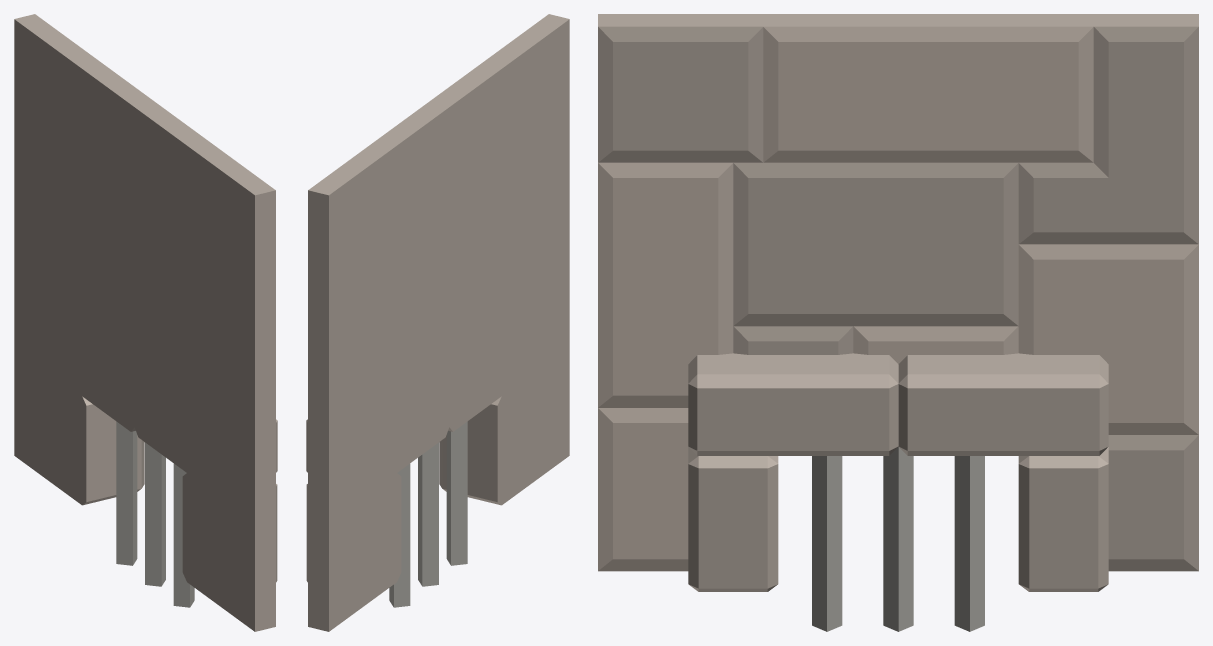
The model's file is Stone_Sewer_Grate_2.glb.
3 renders of one model, left to right at view 1: azimuth 30°, elevation 25°; view 2: azimuth 150°, elevation 25°; view 3: azimuth 270°, elevation 25°, orthographic. The views are drawn at different scales.
Parts seen in each view (by area): view 1: Stone_Sewer_Grate_2; view 2: Stone_Sewer_Grate_2; view 3: Stone_Sewer_Grate_2.
Part boxes in pixels (x1,y1,x2,y2): Stone_Sewer_Grate_2: [14, 14, 277, 631]; Stone_Sewer_Grate_2: [306, 14, 569, 631]; Stone_Sewer_Grate_2: [598, 14, 1198, 631].
Bounding box in the file's own units: 0.0795 × 0.583 × 0.53.
